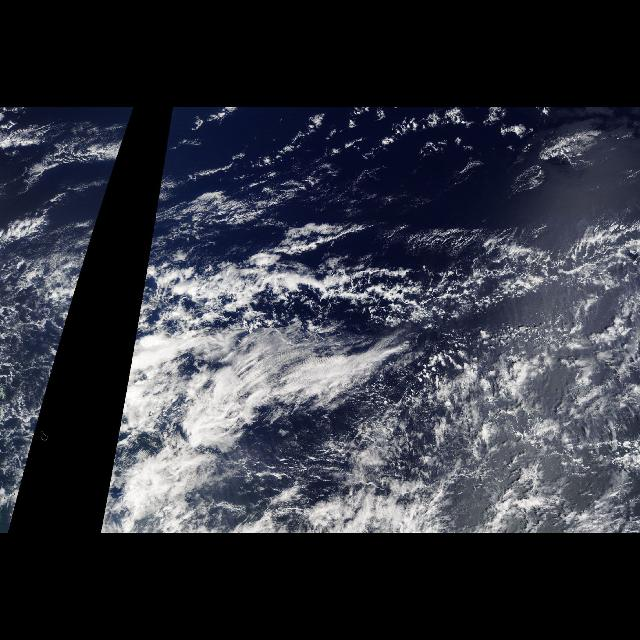Fish: (137, 222, 638, 321)
Gravel: (346, 306, 640, 534)
